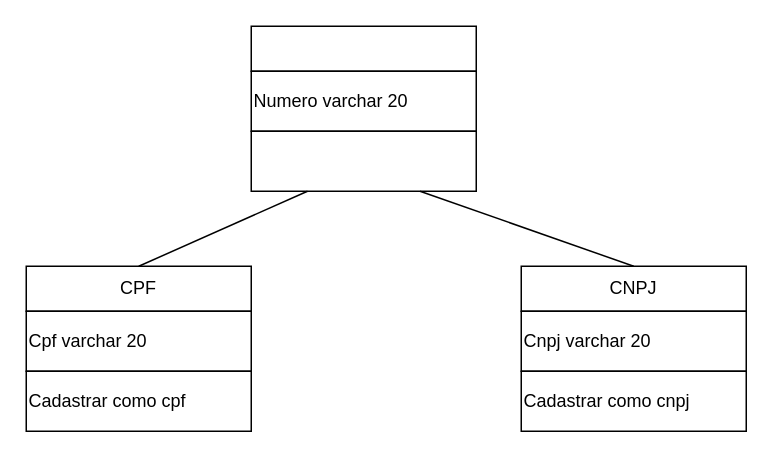
This 773x458 diagram has some shape labels left out. Here are the shapes that lost their labels. From the top down, the centre of each, then its label:
pixel 363 48: Tipo documento
pixel 363 160: Reconhecer documento
